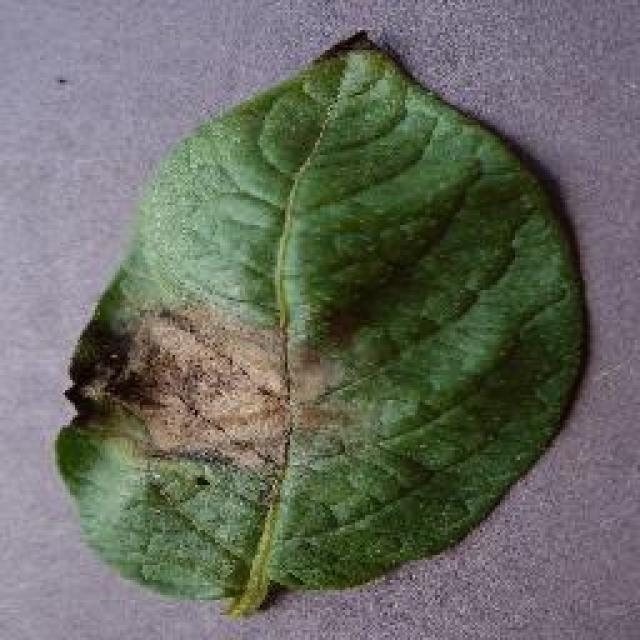Potato: (52, 25, 590, 617)
